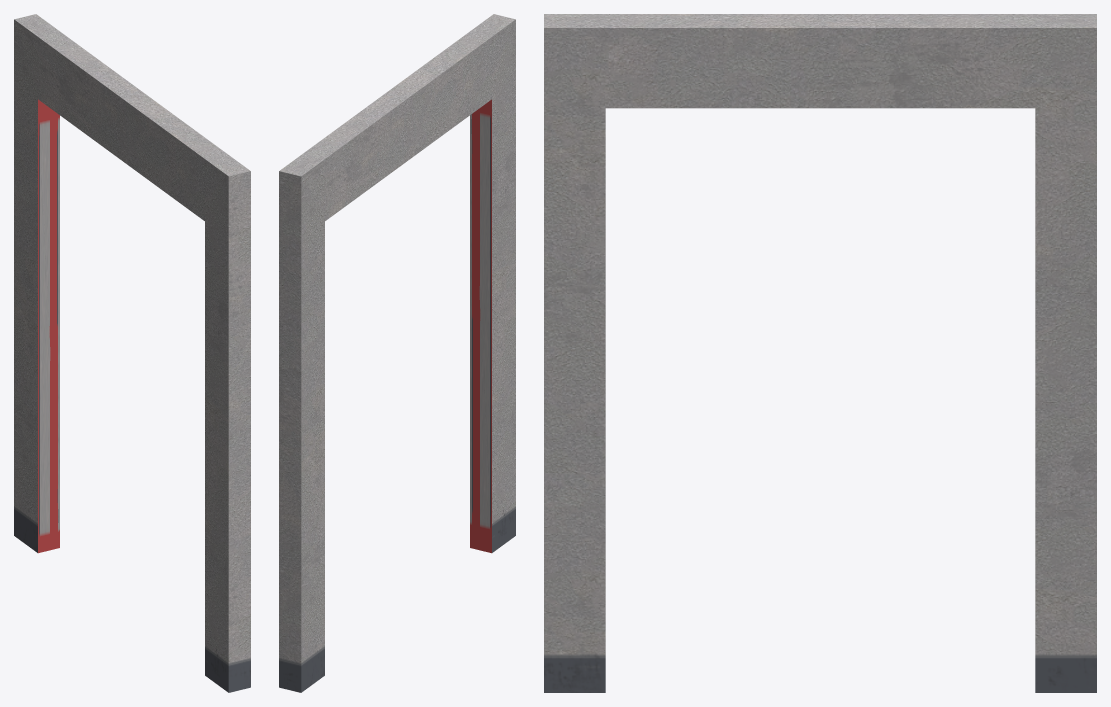
The model's file is WallDoor_2_Type.fbx.
3 renders of one model, left to right at view 1: azimuth 30°, elevation 25°; view 2: azimuth 150°, elevation 25°; view 3: azimuth 270°, elevation 25°, orthographic. The views are drawn at different scales.
Visible parts, largest first — view 1: Wall_1_Type1; view 2: Wall_1_Type1; view 3: Wall_1_Type1.
Part boxes in pixels (x1=…): Wall_1_Type1: x1=14, y1=14, x2=250, y2=692; Wall_1_Type1: x1=279, y1=14, x2=515, y2=692; Wall_1_Type1: x1=544, y1=14, x2=1096, y2=692.
Bounding box in the file's own units: 0.1461 × 3.27 × 2.46.
